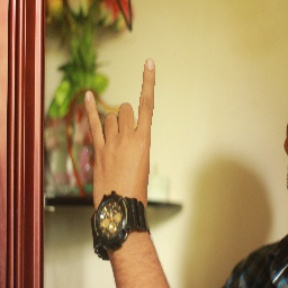V: (81, 55, 162, 194)
